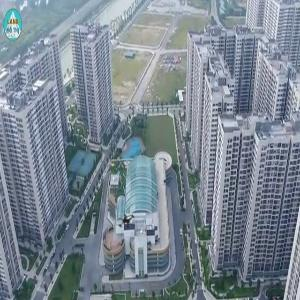drone: (107, 202, 150, 245)
